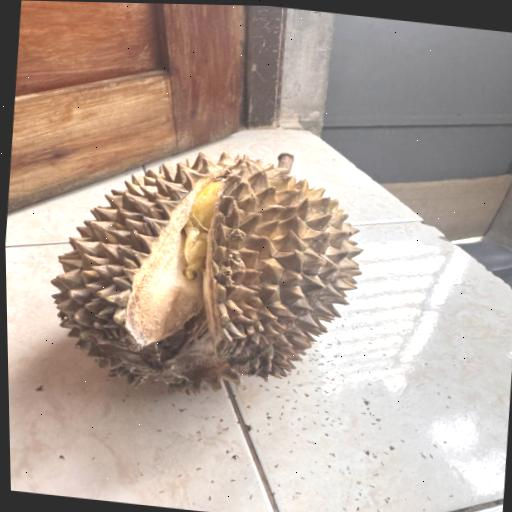rot: (33, 110, 385, 432)
